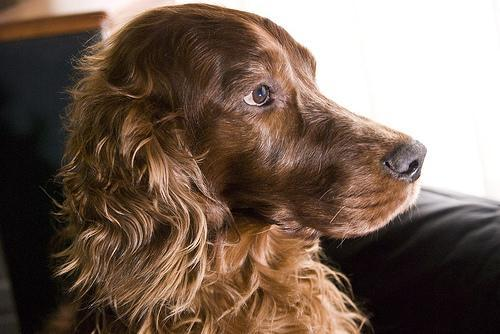Irish_setter: (41, 2, 428, 333)
